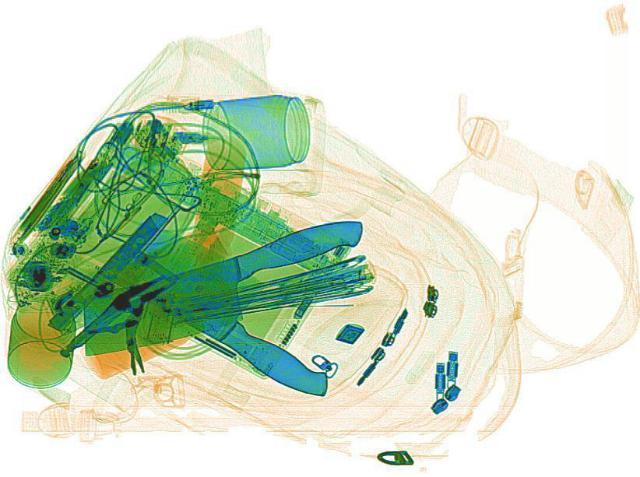Knife: (90, 218, 382, 403), (51, 213, 393, 358)
